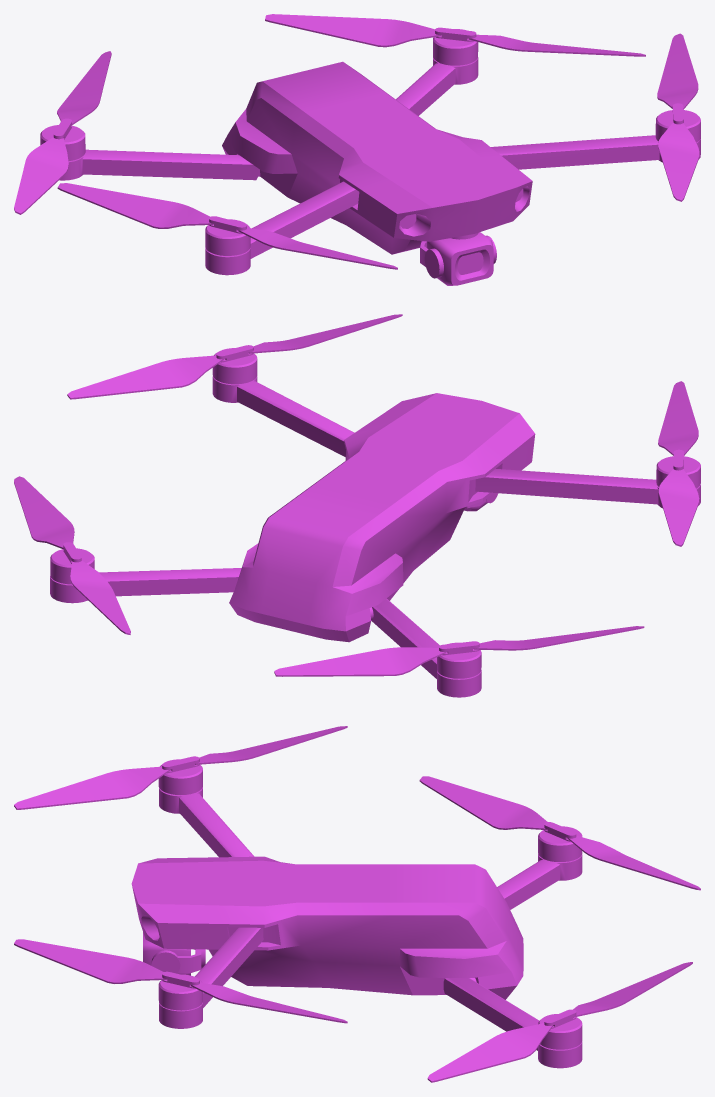
The model's file is Drone Folded.fbx.
3 renders of one model, top to bottom at view 1: azimuth 30°, elevation 25°; view 2: azimuth 150°, elevation 25°; view 3: azimuth 270°, elevation 25°, orthographic. The views are drawn at different scales.
Visible parts, largest first — view 1: Quadcopter Folding Body, Beam D, Beam B, Beam A, Blade.006, Blade.001, Camera Folded.002, Blade.008, Blade.003, Beam C, Blade.004, Blade.007 (+7 smaller); view 2: Quadcopter Folding Body, Beam A, Beam C, Beam B, Blade.007, Blade.004, Beam D, Blade.005, Blade.001, Blade.002, Blade.006, Motor D (+5 smaller); view 3: Quadcopter Folding Body, Beam C, Blade.002, Blade.003, Beam B, Blade.005, Blade.008, Beam A, Beam D, Blade.007, Blade.004, Blade.006 (+6 smaller).
Part boxes in pixels (<box>): Quadcopter Folding Body: <box>222,61,532,254</box>; Beam D: <box>59,149,257,180</box>; Beam B: <box>491,135,700,169</box>; Beam A: <box>205,181,359,275</box>; Blade.006: <box>265,14,440,47</box>; Blade.001: <box>57,183,213,228</box>; Camera Folded.002: <box>426,232,493,285</box>; Blade.008: <box>14,137,68,214</box>; Blade.003: <box>658,122,699,201</box>; Beam C: <box>396,57,478,115</box>; Blade.004: <box>657,33,698,109</box>; Blade.007: <box>57,51,111,125</box>; Quadcopter Folding Body: <box>229,393,535,642</box>; Beam A: <box>475,469,700,508</box>; Beam C: <box>50,568,241,603</box>; Beam B: <box>212,376,354,456</box>; Blade.007: <box>274,647,446,676</box>; Blade.004: <box>67,355,224,399</box>; Beam D: <box>369,598,481,697</box>; Blade.005: <box>14,476,74,549</box>; Blade.001: <box>658,469,699,546</box>; Blade.002: <box>658,381,698,455</box>; Blade.006: <box>70,560,130,634</box>; Motor D: <box>437,641,481,678</box>; Quadcopter Folding Body: <box>131,856,523,999</box>; Beam C: <box>443,978,582,1068</box>; Blade.002: <box>14,766,170,809</box>; Blade.003: <box>14,939,166,983</box>; Beam B: <box>159,927,263,1028</box>; Blade.005: <box>427,1023,552,1082</box>; Blade.008: <box>419,776,547,830</box>; Beam A: <box>159,787,254,857</box>; Beam D: <box>497,854,582,909</box>; Blade.007: <box>567,835,700,890</box>; Blade.004: <box>191,982,347,1023</box>; Blade.006: <box>573,962,692,1017</box>.
Bounding box in the file's own units: 0.4123 × 0.0658 × 0.3949.
